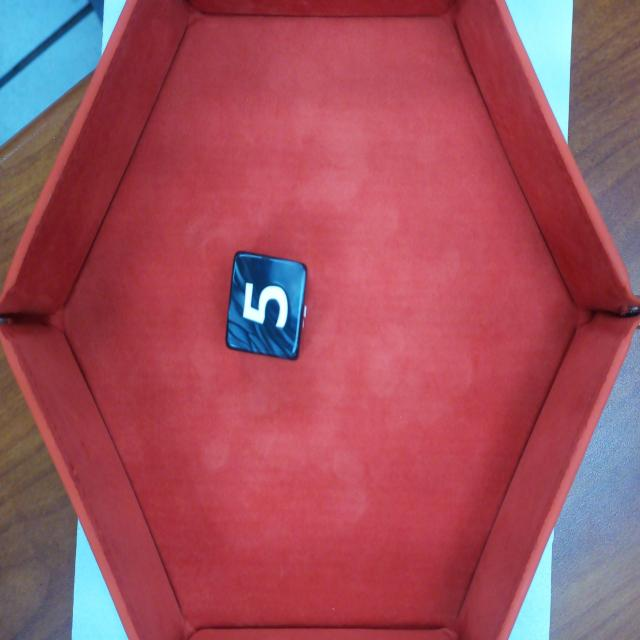dice: (226, 250, 312, 360)
